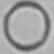no answer: (3, 0, 50, 53)
